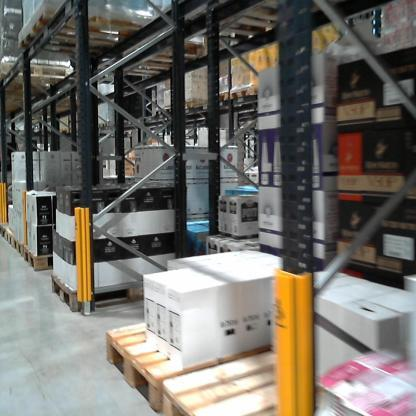pallets: (95, 323, 283, 415), (12, 9, 158, 61), (48, 270, 151, 322), (1, 224, 54, 282)
